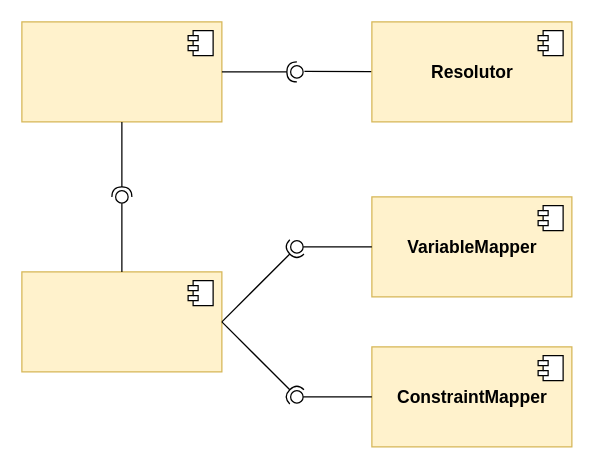
Image size: 594x469. Some labels were removed from this diagram. Here are the shapes that lost their labels. From the top down, the centre of each, then its label:
At (x=121, y=71): "Analyzer".
At (x=121, y=321): "MiniZincMapper".
